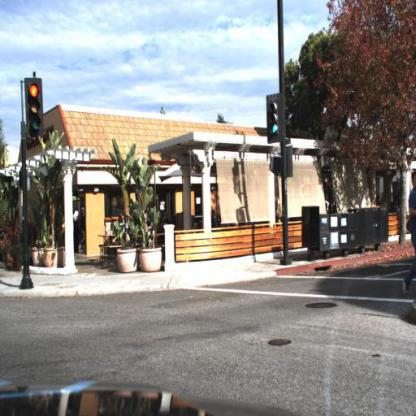pedestrian: (403, 171, 416, 298)
trafficLight-Red: (26, 78, 44, 135)
